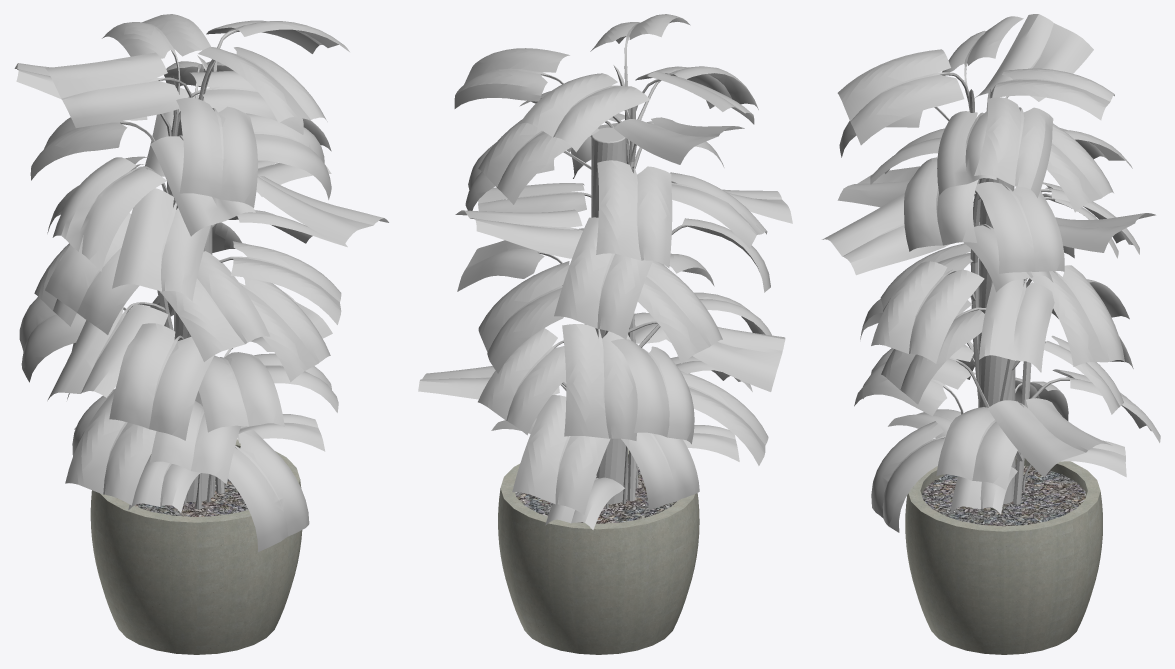
The model's file is pottedplant.dae.
3 views of the same model, side by side, from view 1: azimuth 30°, elevation 25°; view 2: azimuth 150°, elevation 25°; view 3: azimuth 270°, elevation 25° (orthographic). The views are drawn at different scales.
Parts seen in each view (by area): view 1: vaso2-dsjfghs (×15); view 2: vaso2-dsjfghs (×12); view 3: vaso2-dsjfghs (×16).
Boxes of the visible parts, x1,y1,x2,y2 form: vaso2-dsjfghs (×15): (14, 14, 388, 654); vaso2-dsjfghs (×12): (418, 14, 792, 654); vaso2-dsjfghs (×16): (822, 14, 1160, 654).
Size of the model in its own units: 41.79 by 40.47 by 73.9.
